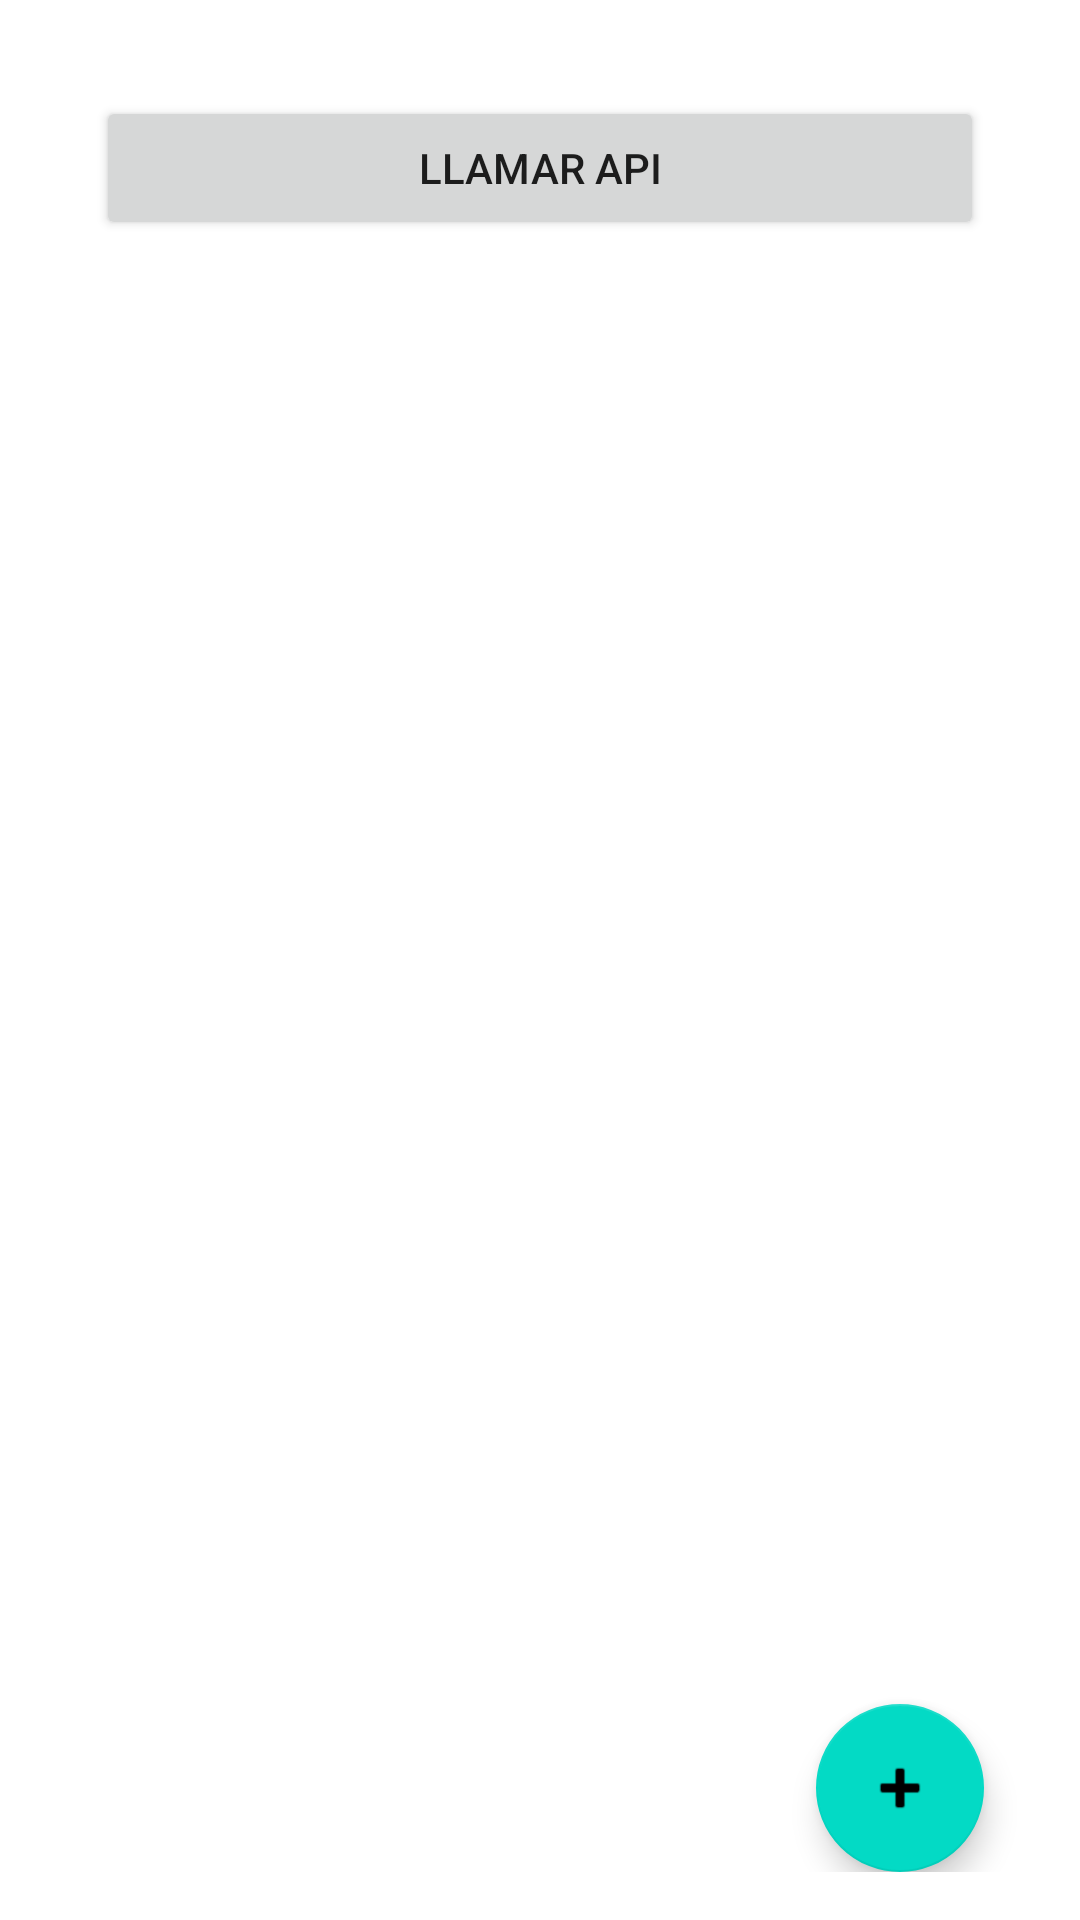

Icons on this 1080x1920 Android screen, each with the point to tap as point (x, y):
add: point (900, 1788)
